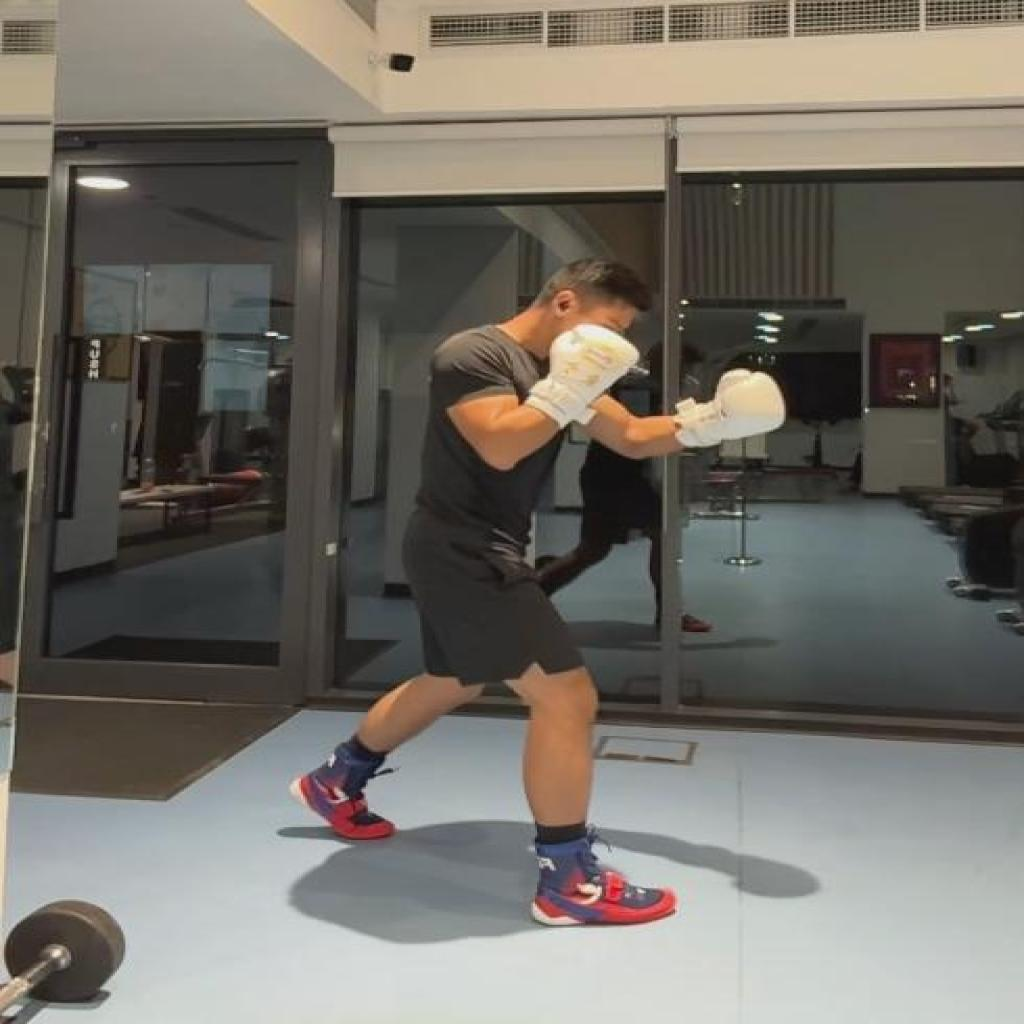uppercut: (289, 250, 794, 931)
